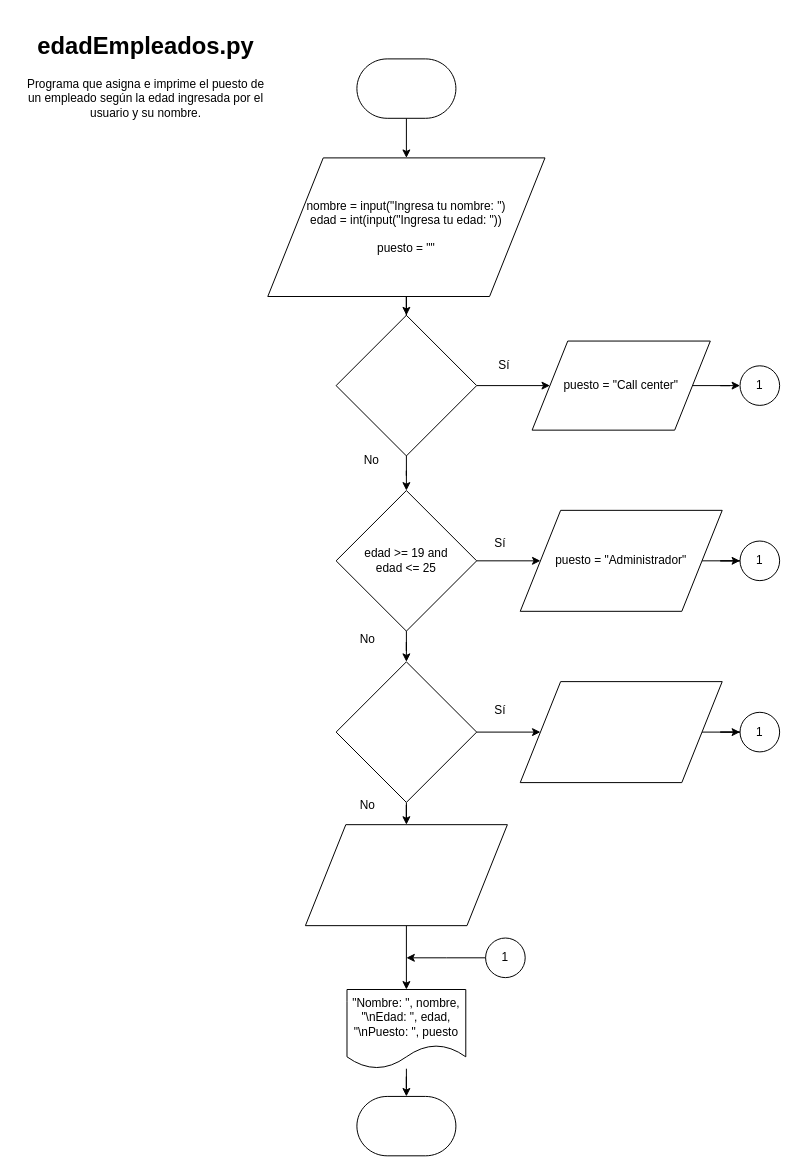
The diagram is 797 pixels wide and 1173 high, and some of its shapes have lost their labels. Each missing label, with the centre of its shape:
edad >= 15 and edad <= 18: (406,385)
edad >= 25 and edad <= 45: (406,731)
puesto = "Jefe de piso": (620,732)
puesto = "No hay chamba para mayores de 45 :(": (405,875)
